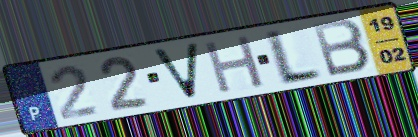2: (46, 63, 102, 122), (98, 54, 153, 114)
B: (309, 16, 374, 79)
H: (201, 33, 268, 96)
L: (265, 27, 325, 88)
V: (148, 41, 202, 102)
